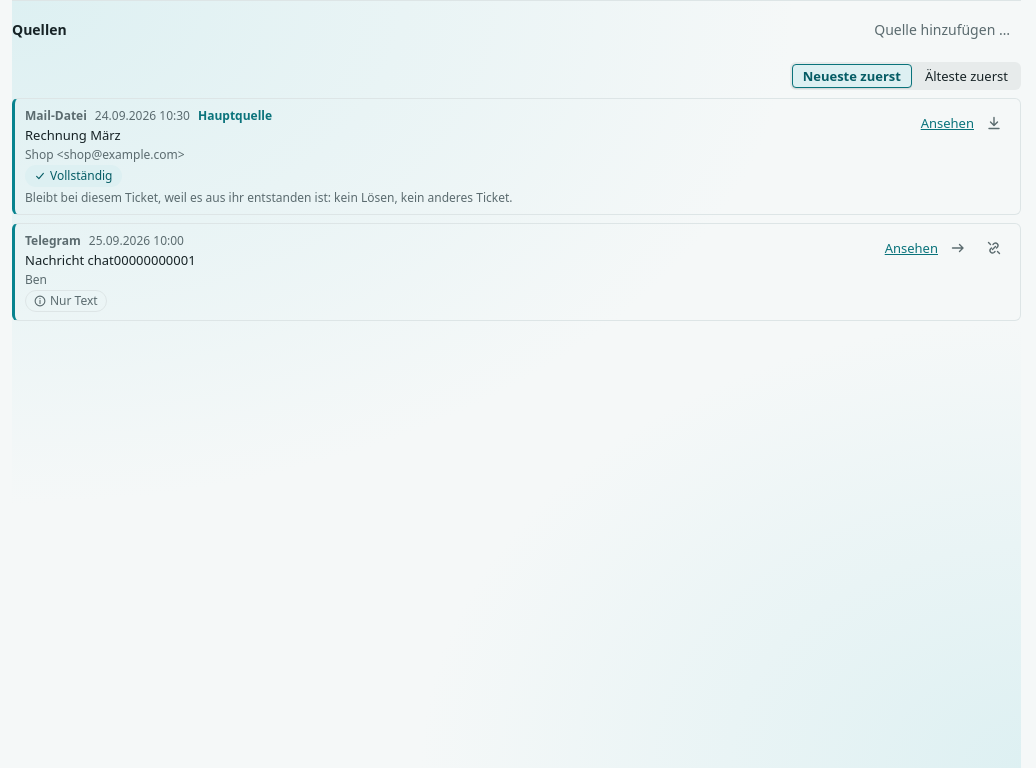
Test: TicketSources › releases a linked source; it leaves the list with a flag
The width and height of the screenshot is (1036, 768).
Click the button named "„Nachricht chat00000000001“ lösen" at x=994, y=248, box [978,232,1010,264]
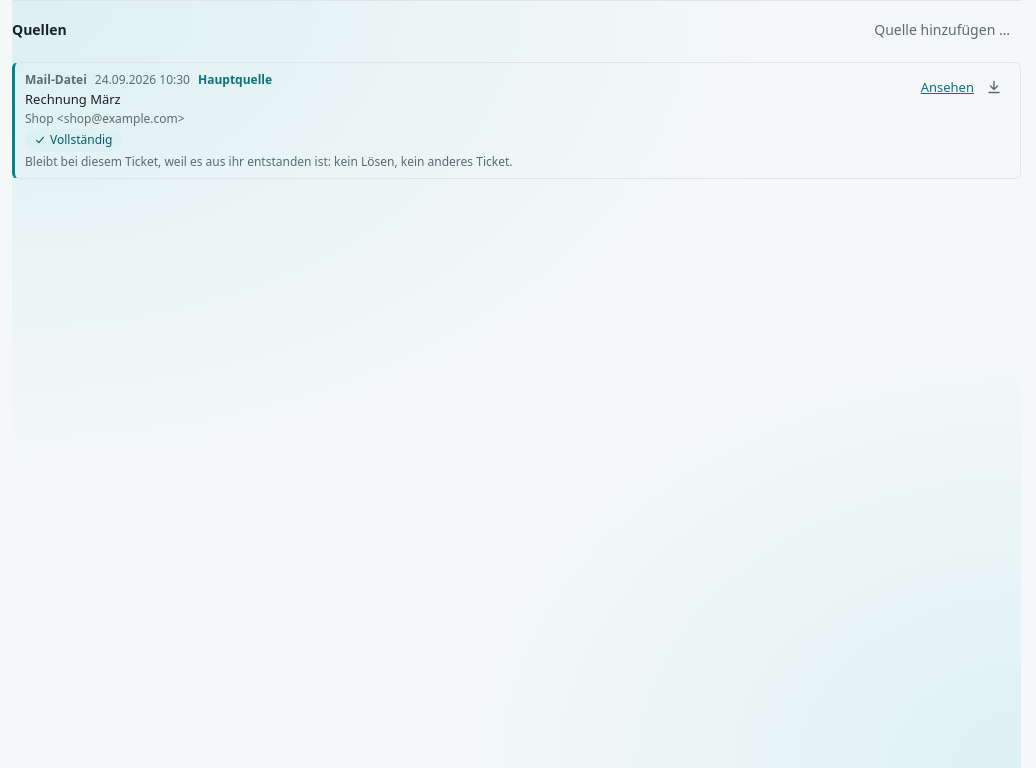
Now the number of list items is 1, box [12,62,1021,179]
